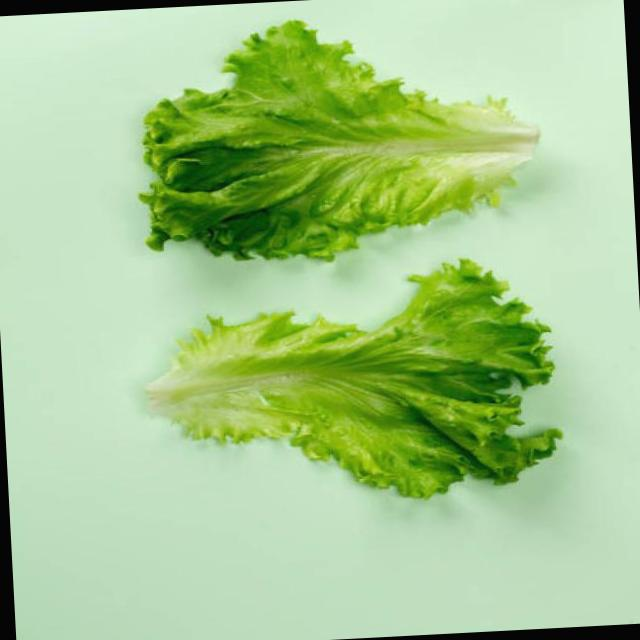Lettuce-Ready-to-Harvest: (142, 259, 564, 501), (137, 20, 541, 264)
